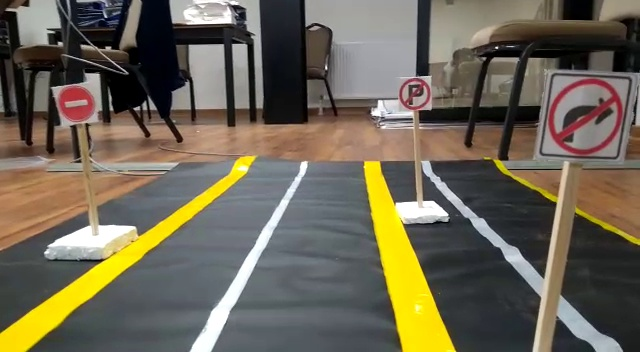girisi_olmayan_yol: (56, 87, 97, 122)
park_yapilmaz: (399, 76, 431, 110)
saga_donulmez: (549, 69, 622, 160)
